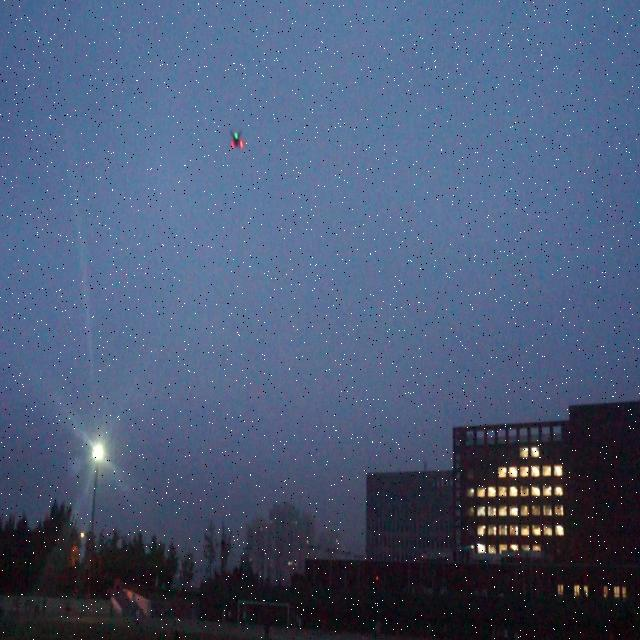UAV: (230, 130, 243, 149)
